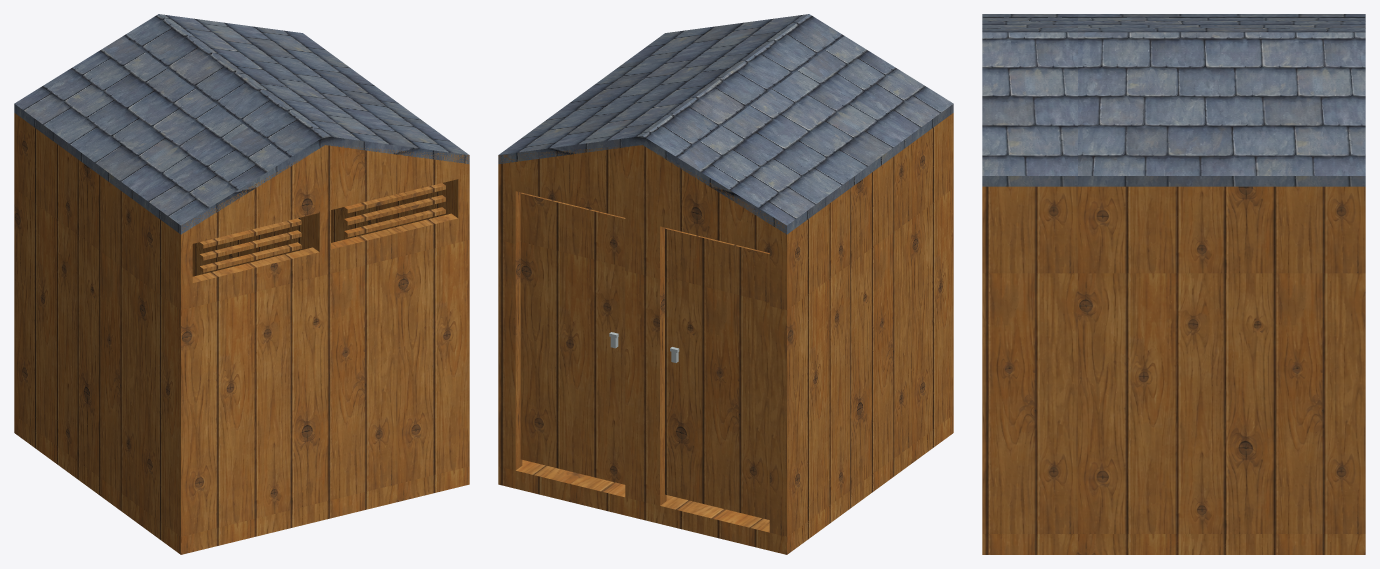
File: bath-outhouse-double.gltf
3 renders of one model, left to right at view 1: azimuth 30°, elevation 25°; view 2: azimuth 150°, elevation 25°; view 3: azimuth 270°, elevation 25°, orthographic. The views are drawn at different scales.
Parts seen in each view (by area): view 1: exterior-timber, roof-slate, gable-timber, floor-timber, partition-timber; view 2: exterior-timber, door-timber (×2), roof-slate, floor-timber, gable-timber, partition-timber; view 3: exterior-timber, roof-slate, floor-timber.
Part boxes in pixels (x1,y1,x2,y2): exterior-timber: [14, 113, 469, 536]; roof-slate: [14, 14, 469, 234]; gable-timber: [181, 145, 469, 234]; floor-timber: [14, 415, 469, 554]; partition-timber: [192, 198, 330, 381]; exterior-timber: [498, 113, 953, 536]; door-timber (×2): [520, 192, 769, 519]; roof-slate: [498, 14, 953, 234]; floor-timber: [498, 415, 953, 554]; gable-timber: [498, 145, 786, 234]; partition-timber: [637, 198, 648, 502]; exterior-timber: [982, 186, 1365, 533]; roof-slate: [982, 14, 1365, 186]; floor-timber: [982, 534, 1365, 554].
Size of the model in its own units: 2 by 2.54 by 2.
Materials: 5 (2 with a texture image).
